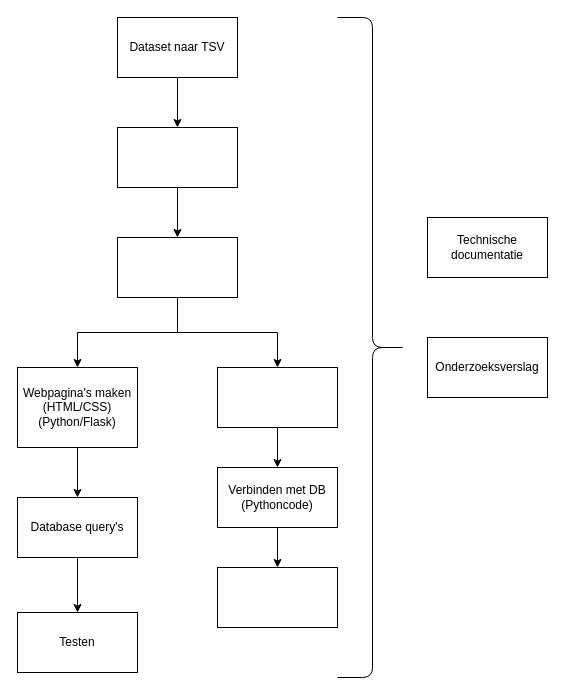
The diagram is 565 pixels wide and 695 high, and some of its shapes have lost their labels. Each missing label, with the centre of its shape:
"BLASTen en resultaten in DB (Pythoncode)" goes at point 277,597.
"Database opzetten" goes at point 177,157.
"Sequenties blasten (Pythoncode)" goes at point 277,397.
"Webapp opzetten" goes at point 177,267.
